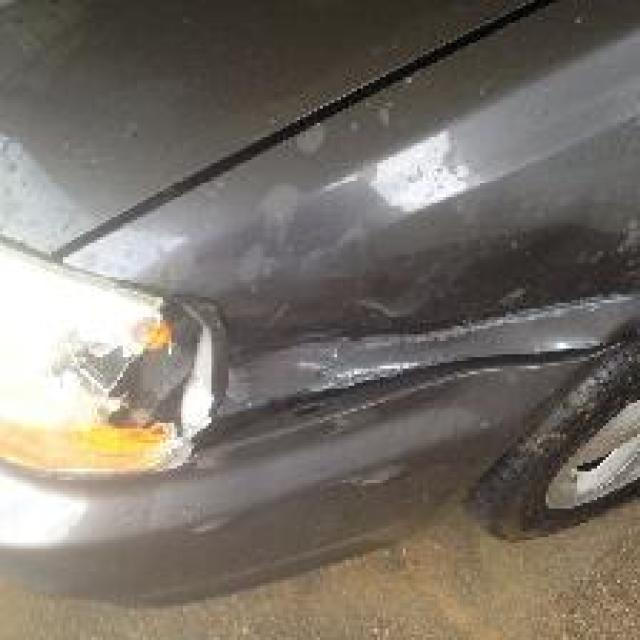head_lamp_minor: (23, 269, 169, 457)
